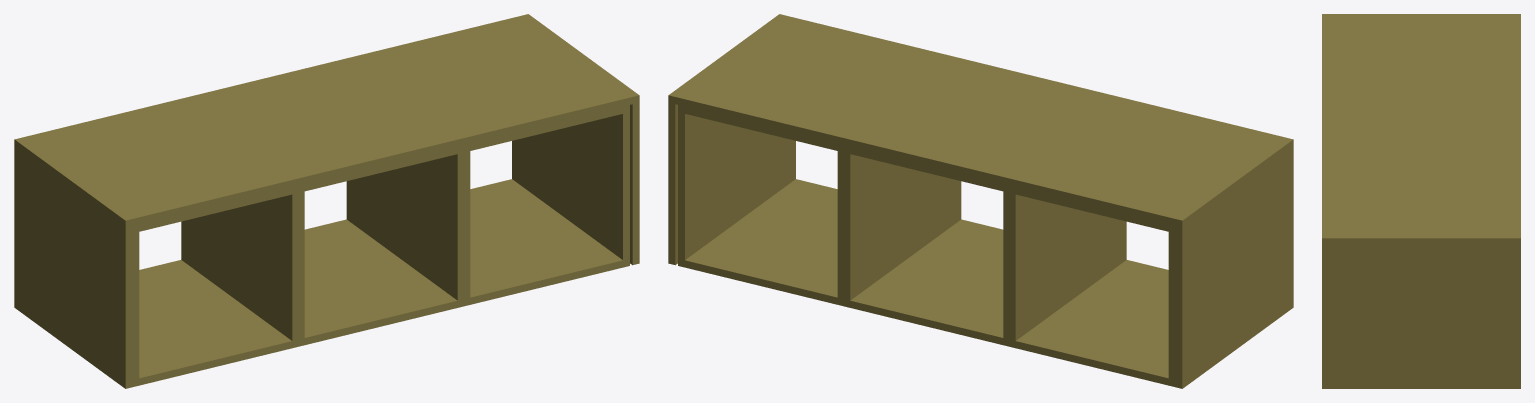
3 renders of one model, left to right at view 1: azimuth 30°, elevation 25°; view 2: azimuth 150°, elevation 25°; view 3: azimuth 270°, elevation 25°, orthographic. The views are drawn at different scales.
Visible parts, largest first — view 1: color, color-2; view 2: color, color-2; view 3: color.
Part boxes in pixels (<box>): color: <box>14,14,639,388</box>; color-2: <box>132,105,629,387</box>; color: <box>668,14,1293,388</box>; color-2: <box>678,105,1175,387</box>; color: <box>1322,14,1520,388</box>.
Size of the model in its own units: 1.34 by 0.418 by 0.5.
